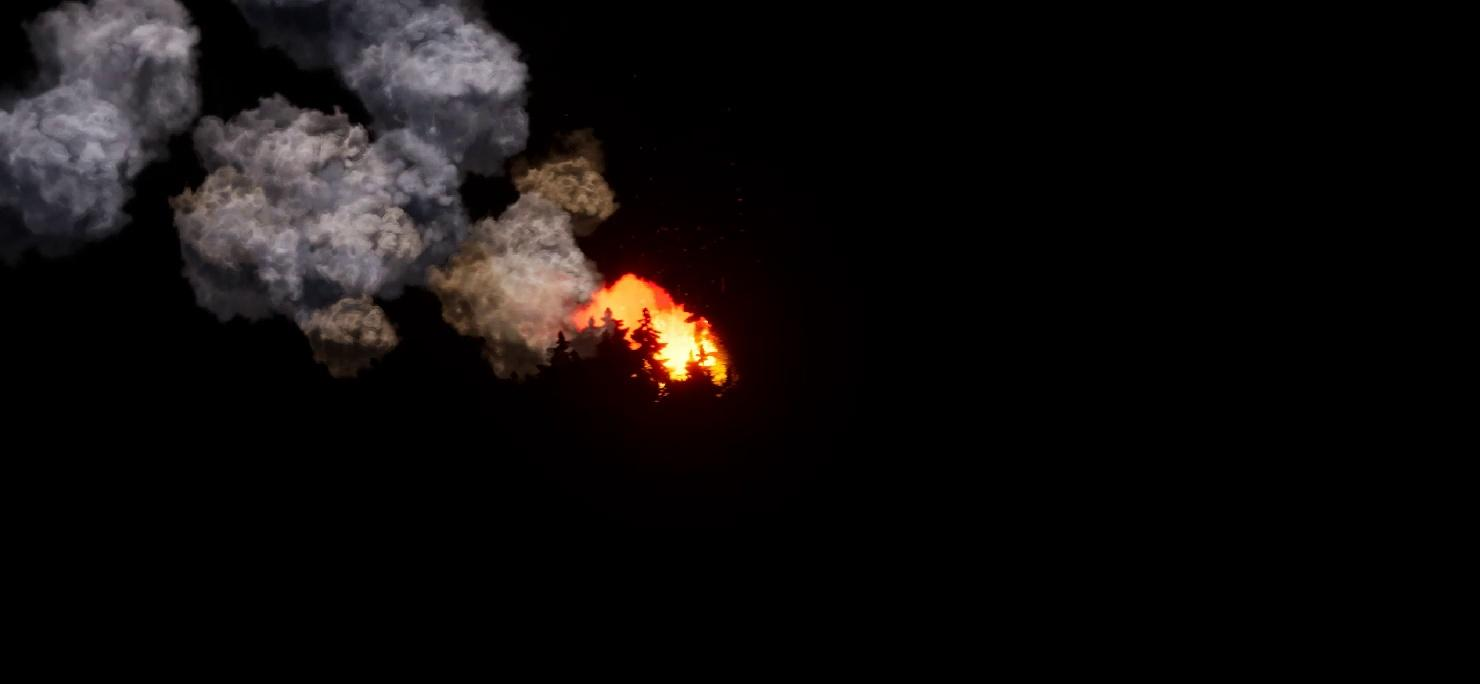fire: (570, 275, 741, 393)
smoke: (0, 0, 613, 363)
